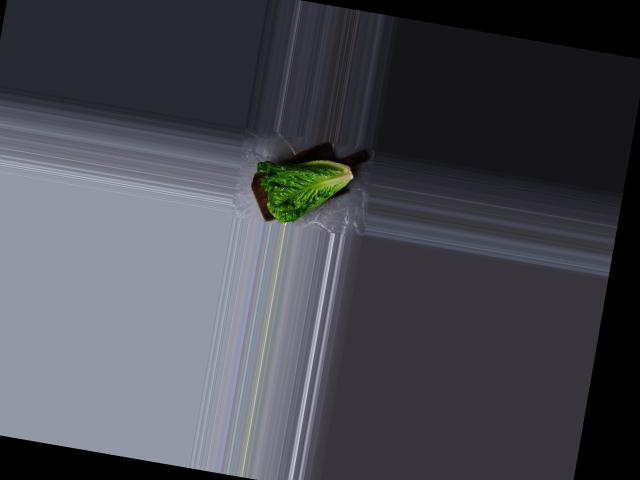lettuce: (248, 138, 361, 232)
